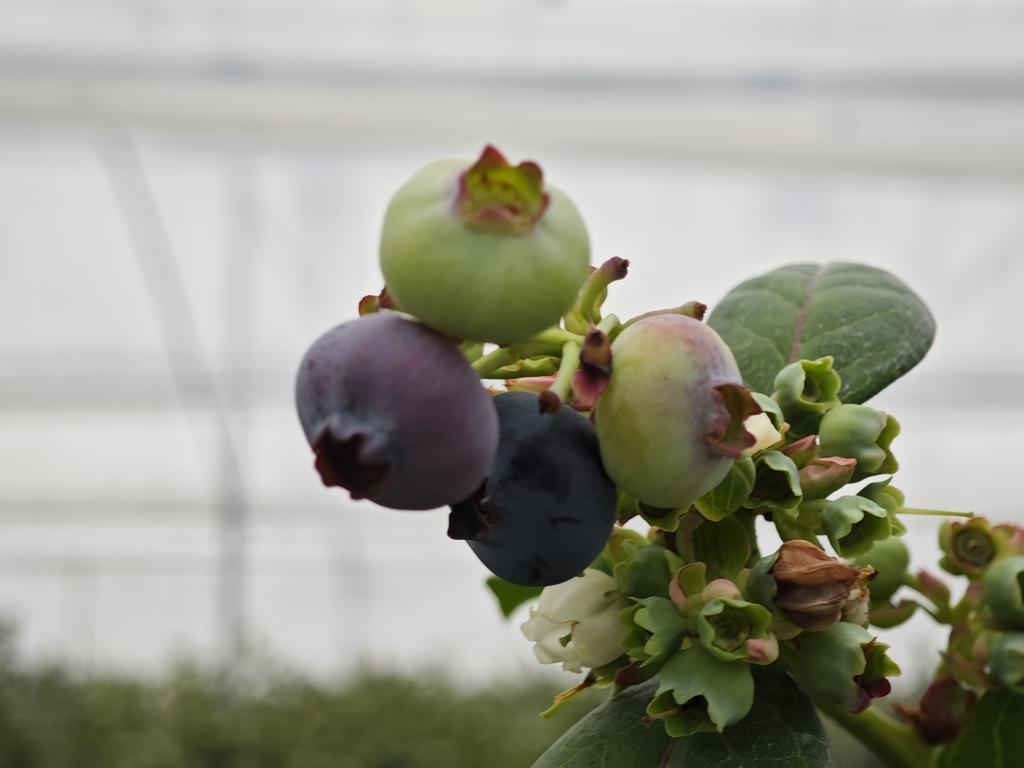RipeBlueBerry: (452, 392, 620, 587)
Semi-RipeBlueBerry: (294, 311, 502, 513)
UnripeBlueBerry: (374, 149, 593, 341), (599, 309, 747, 509)
